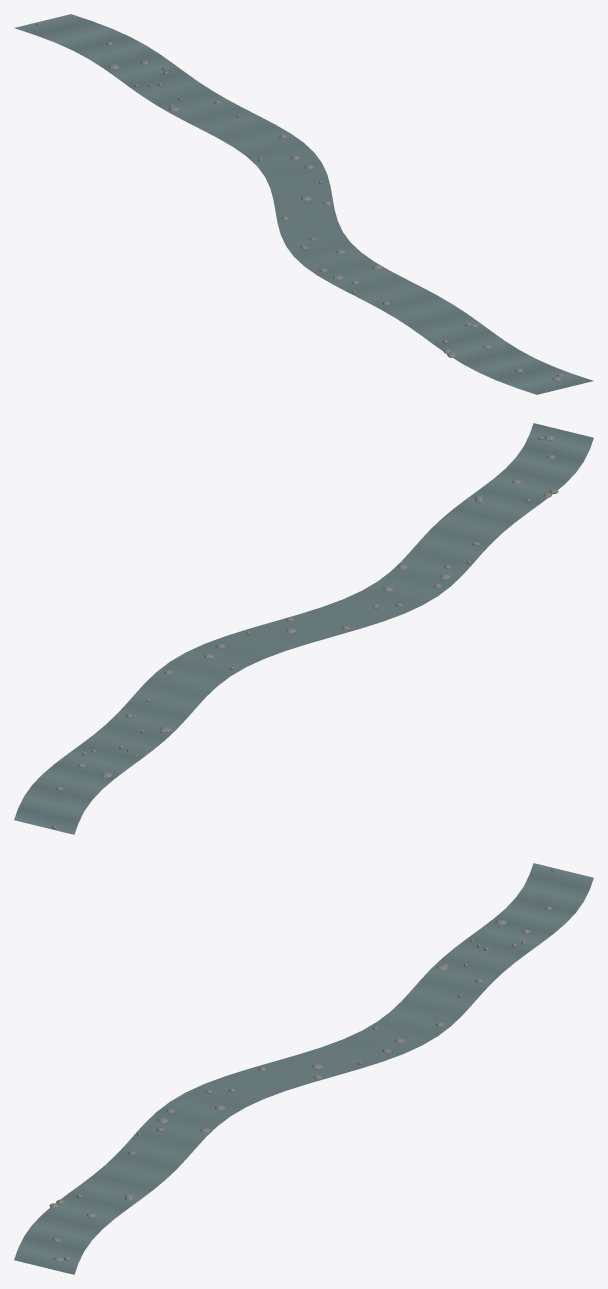
File: Mist_River.fbx
3 views of the same model, one above another, from view 1: azimuth 30°, elevation 25°; view 2: azimuth 150°, elevation 25°; view 3: azimuth 330°, elevation 25° (orthographic). The views are drawn at different scales.
Parts seen in each view (by area): view 1: Mist_River; view 2: Mist_River; view 3: Mist_River.
Boxes of the visible parts, x1,y1,x2,y2 form: Mist_River: [14, 14, 593, 394]; Mist_River: [14, 423, 593, 834]; Mist_River: [14, 863, 593, 1274].
Size of the model in its own units: 23.03 by 0.6 by 160.
